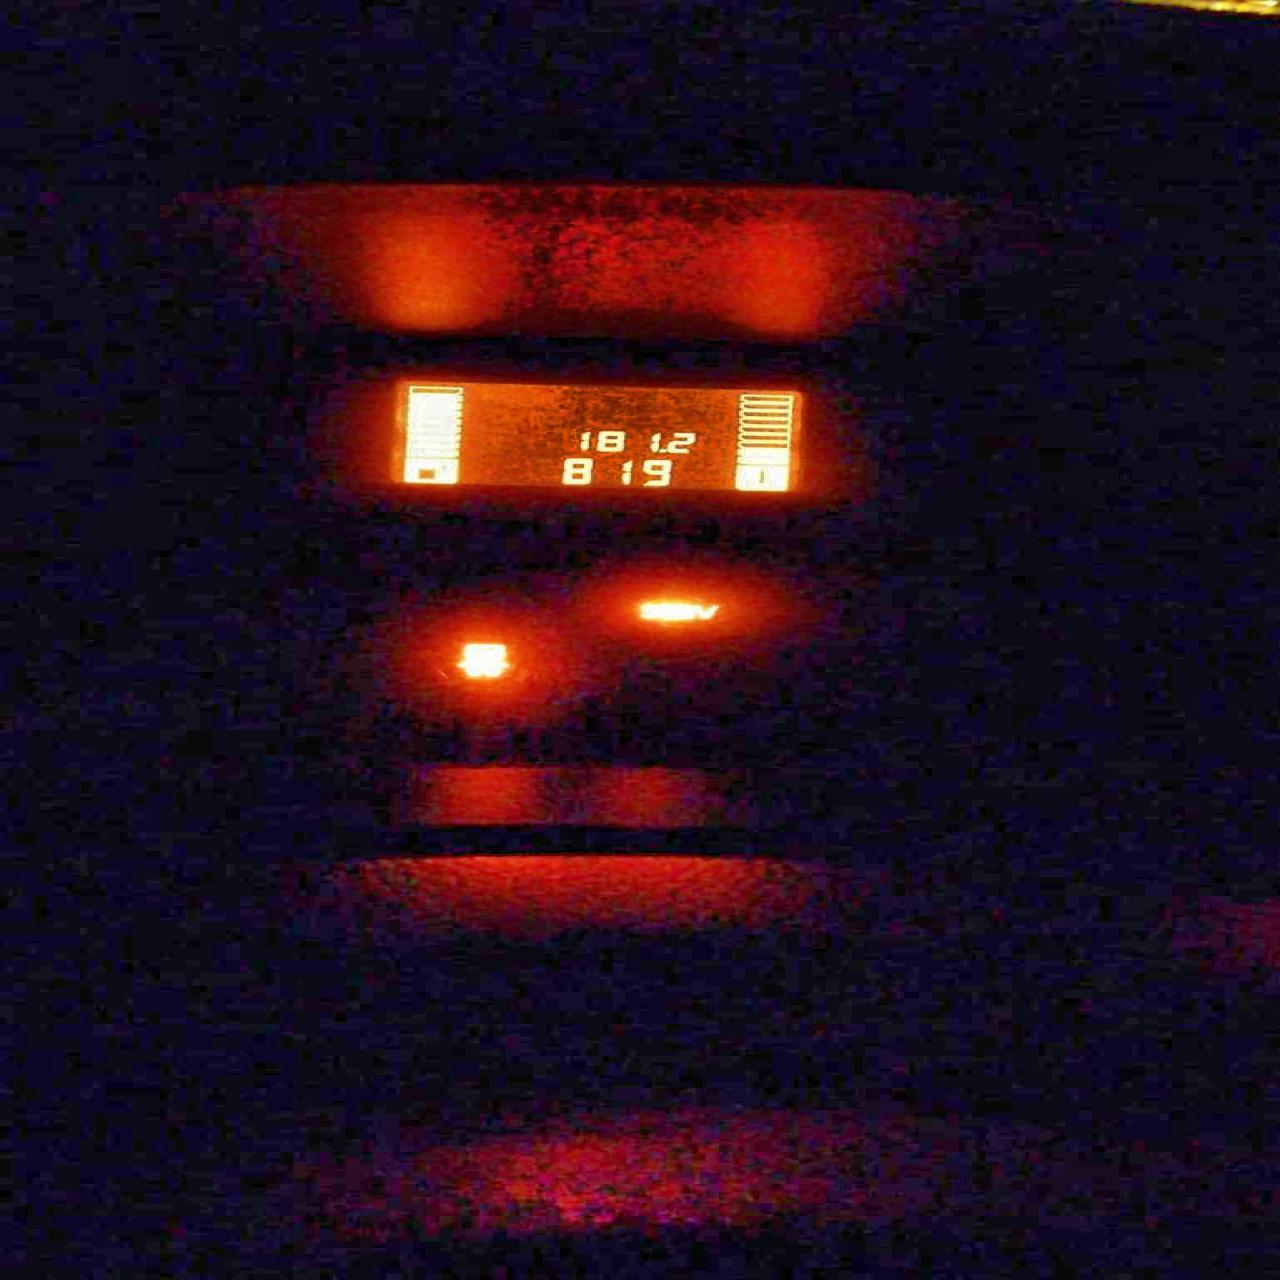-: (656, 448, 666, 454)
1: (618, 458, 633, 485), (576, 430, 590, 451), (647, 431, 661, 452)
2: (665, 431, 696, 452)
8: (559, 457, 593, 484), (594, 430, 624, 452)
9: (639, 458, 673, 485)
odometer: (384, 379, 808, 496)
